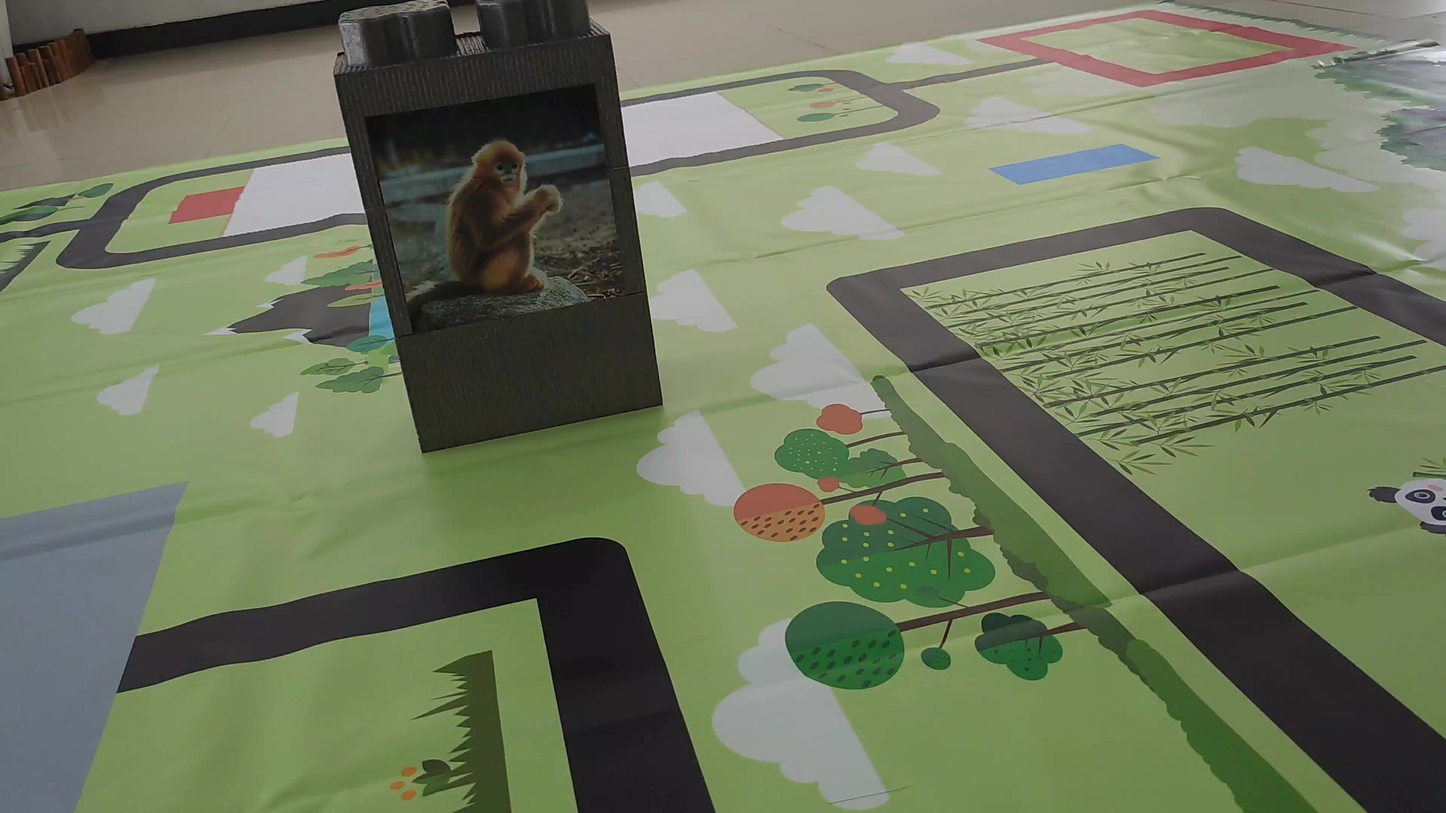monkey: (370, 92, 612, 319)
